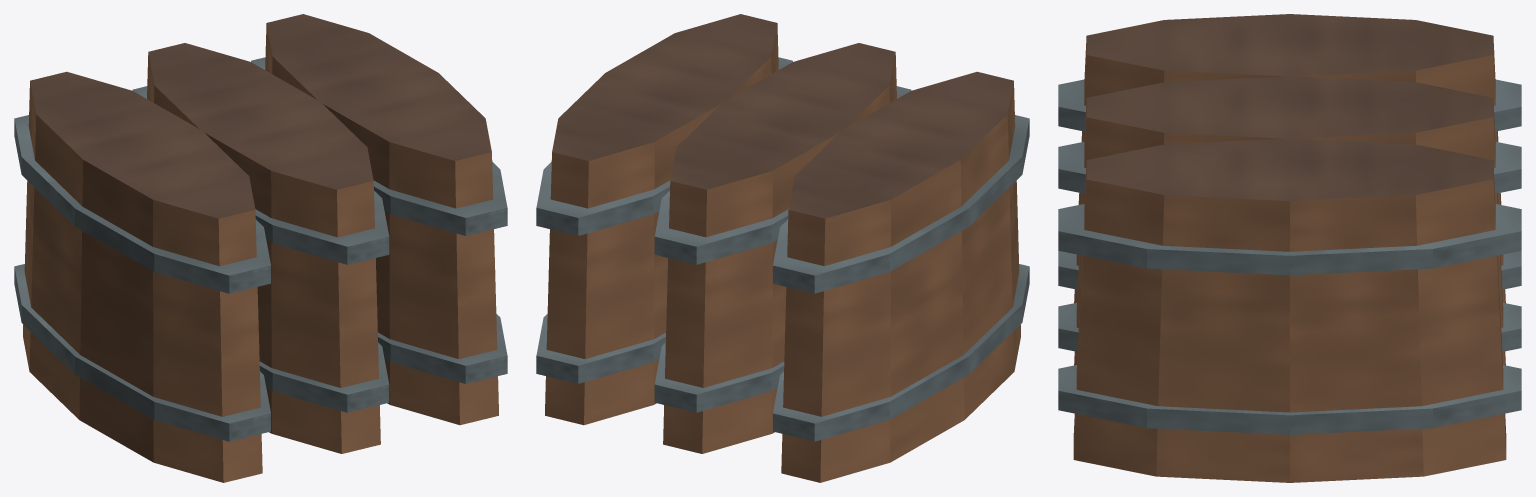
File: barrels_cluster.fbx
The picture shows the model from 3 angles, left to right: view 1: azimuth 30°, elevation 25°; view 2: azimuth 150°, elevation 25°; view 3: azimuth 270°, elevation 25°; orthographic projection. The views are drawn at different scales.
Parts seen in each view (by area): view 1: barrels_cluster; view 2: barrels_cluster; view 3: barrels_cluster.
Part boxes in pixels (bbox=[...]): barrels_cluster: bbox=[14, 14, 507, 482]; barrels_cluster: bbox=[536, 14, 1029, 482]; barrels_cluster: bbox=[1058, 14, 1521, 482].
Bounding box in the file's own units: 150 × 100 × 150.
Materials: 1 (1 with a texture image).
